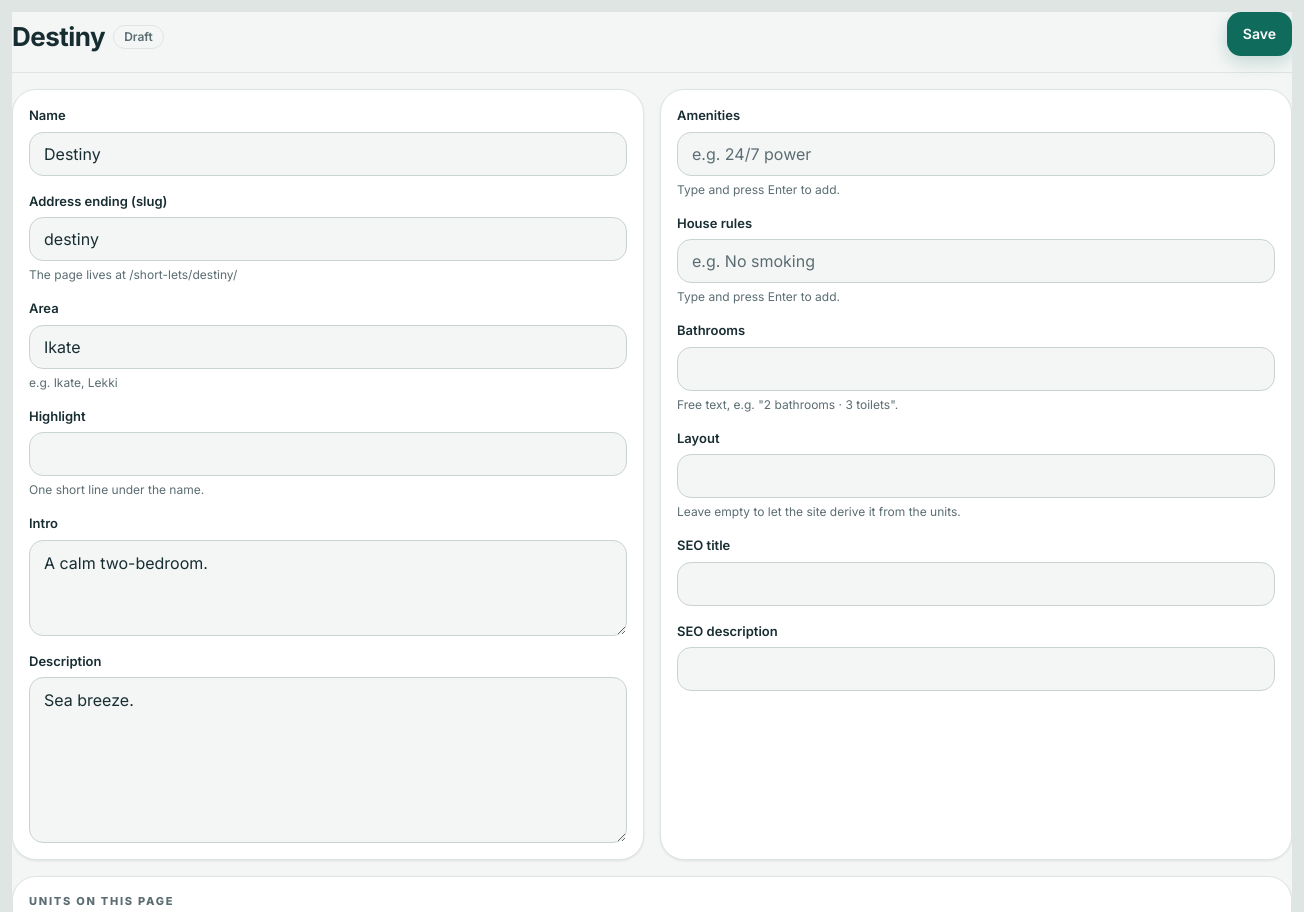
Scenario: listing editor › sends the change with expectedUpdatedAt and reports the save
This screenshot has width=1304, height=912.
Replace the text in the text box labelled "Intro" with "Rewritten.". click: coordinates (328, 588)
box: [29,540,627,636]
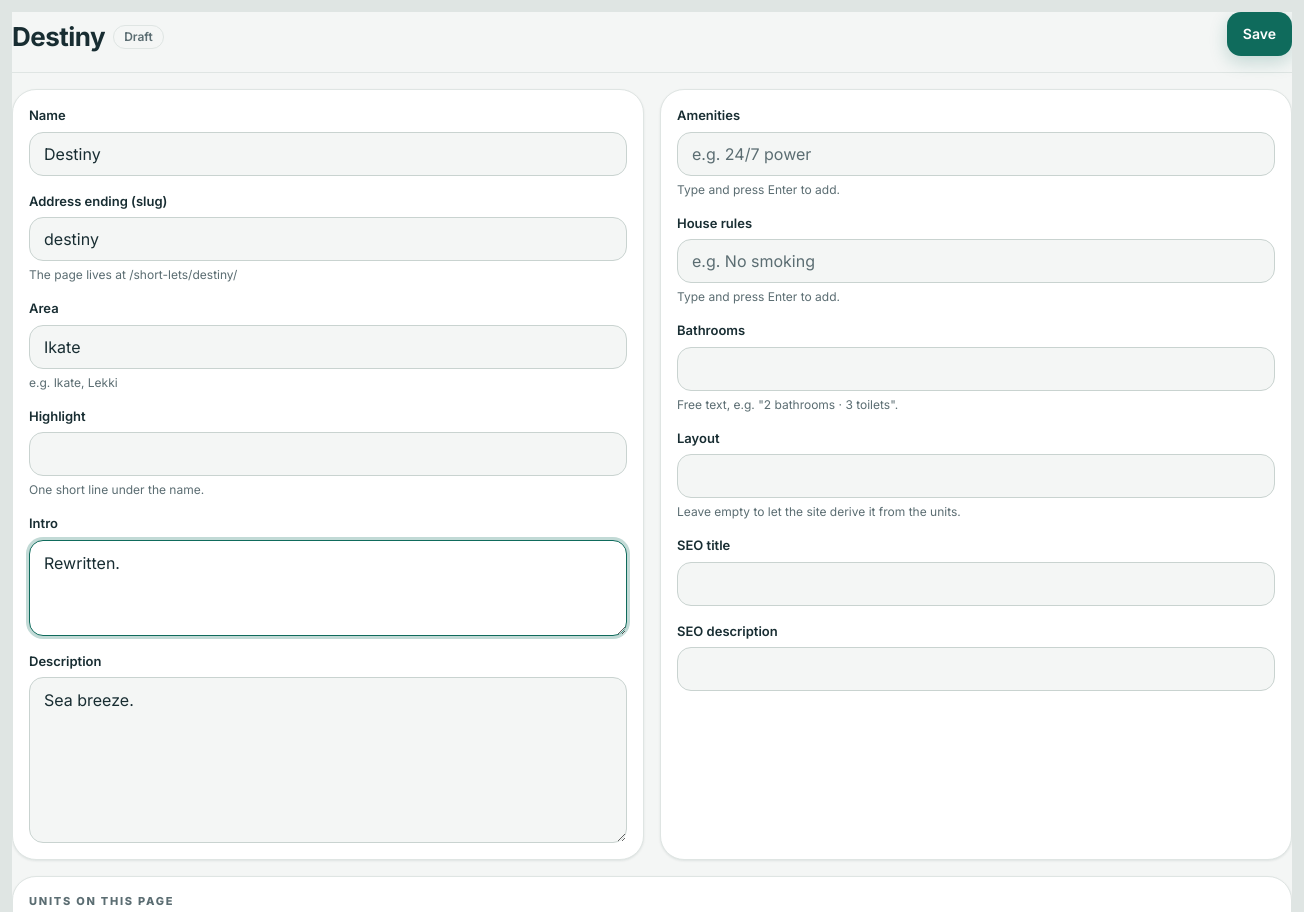
Click the button "Save". click: coordinates (1259, 34)
box: [1227,12,1292,56]
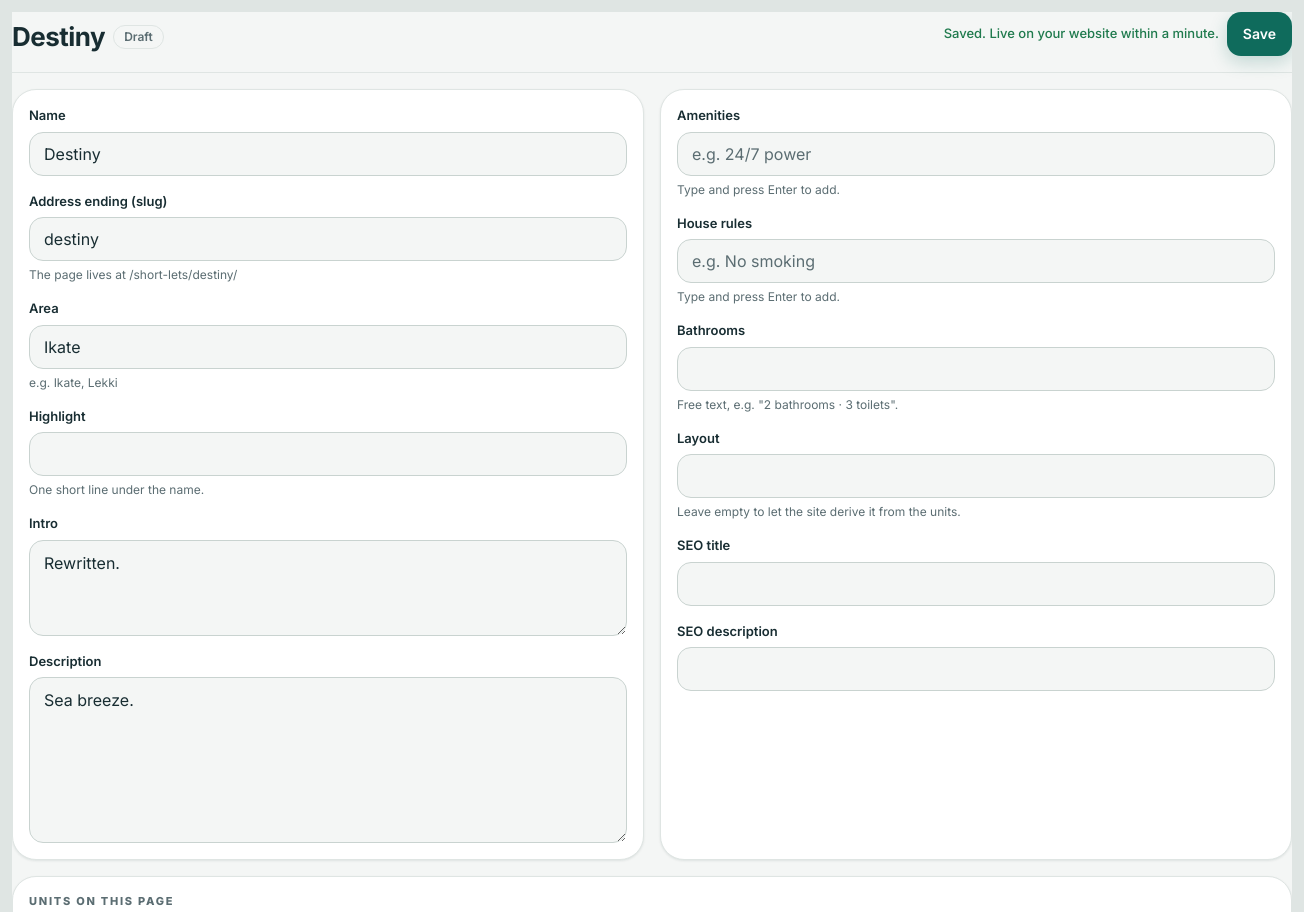
expect the text "Saved. Live on your website within a minute." is shown: met, box [944,24,1219,44]
